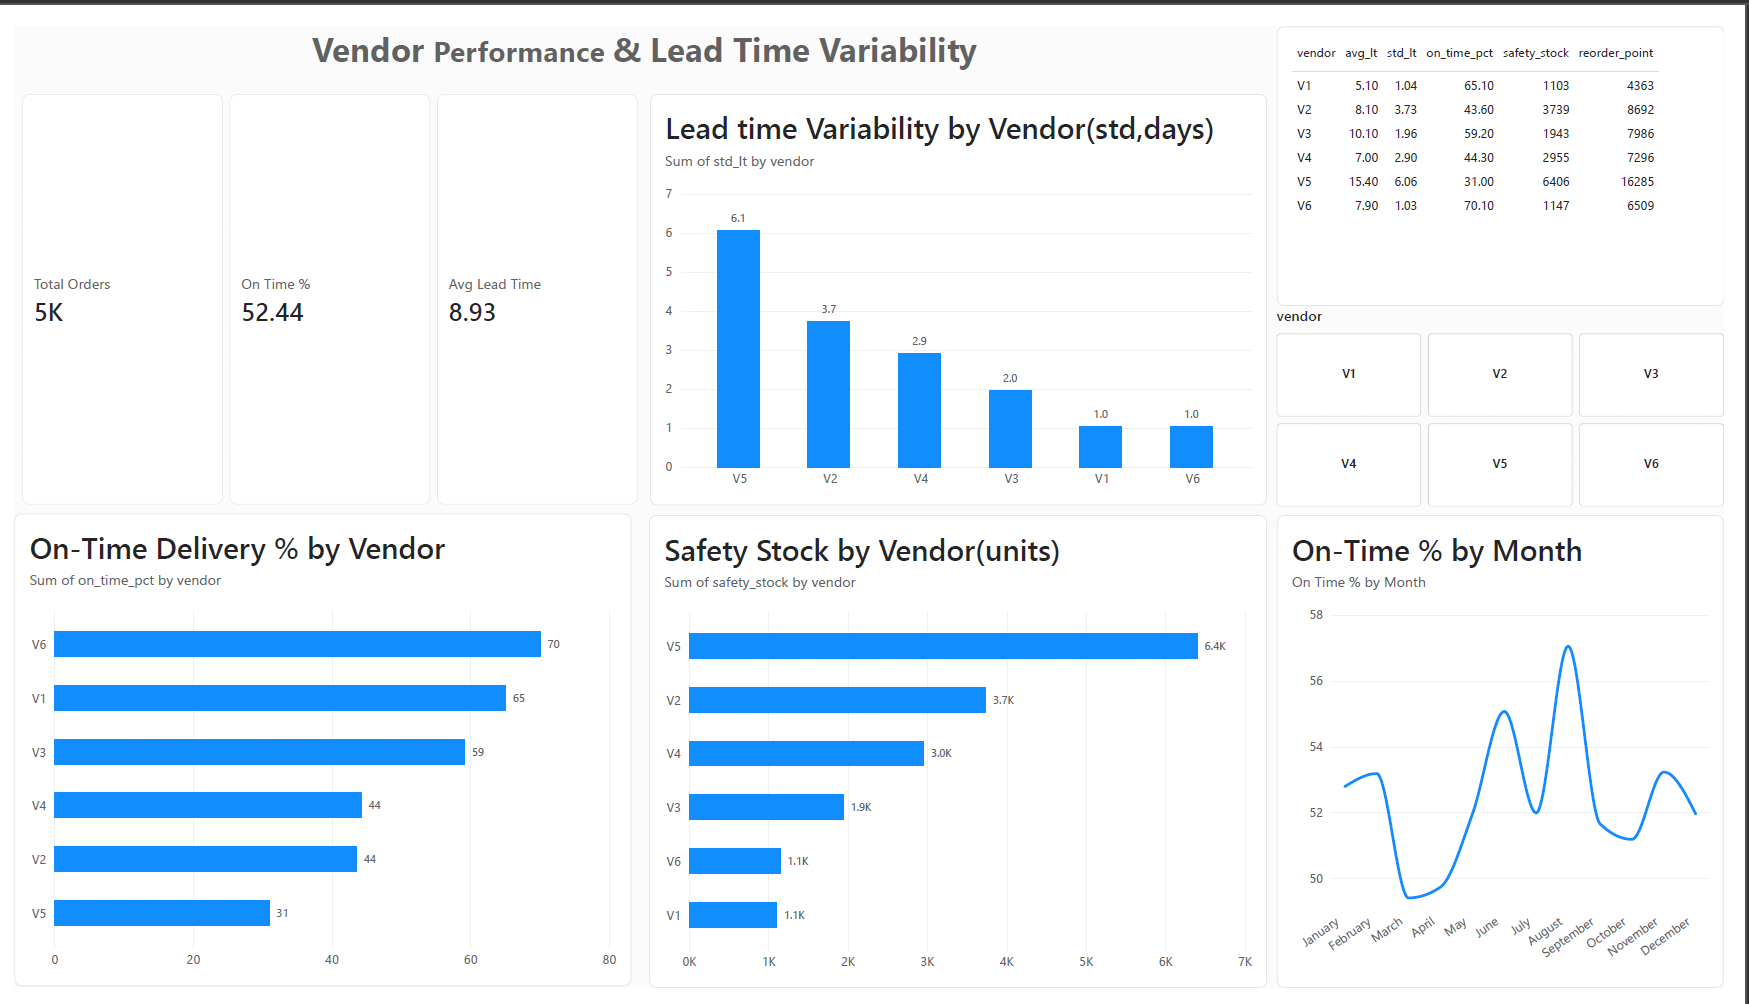

The page's visual inventory and layout, read from the dashboard file:
{"tool":"powerbi","page":{"name":"Page 1","canvas":[1920,1080],"ordinal":0},"visuals":[{"type":"cardVisual","fields":{"Data":["orders.Total Orders","orders.On Time %","orders.Avg Lead Time"]},"box":[9.1,75.9,692.7,461.8],"z":0},{"type":"clusteredBarChart","title":"On-Time Delivery % by Vendor","fields":{"Category":["vendor_summary.vendor"],"Y":["Sum(vendor_summary.on_time_pct)"]},"box":[0,546.8,692.7,531.6],"z":1},{"type":"clusteredColumnChart","title":"Lead time Variability by Vendor(std,days)","fields":{"Category":["vendor_summary.vendor"],"Y":["Sum(vendor_summary.std_lt)"]},"box":[713.9,75.9,692.7,461.8],"z":2},{"type":"clusteredBarChart","title":"Safety Stock by Vendor(units) ","fields":{"Category":["vendor_summary.vendor"],"Y":["Sum(vendor_summary.safety_stock)"]},"box":[713,549,694,531],"z":3},{"type":"tableEx","fields":{"Values":["vendor_summary.vendor","vendor_summary.avg_lt","vendor_summary.std_lt","vendor_summary.on_time_pct","vendor_summary.safety_stock","vendor_summary.reorder_point"]},"box":[1417.6,0,503.2,314.2],"z":4},{"type":"advancedSlicerVisual","fields":{"Values":["orders.vendor"]},"box":[1417.6,314.2,503.2,226.8],"z":5},{"type":"lineChart","title":"On-Time % by Month","fields":{"Category":["orders.order_date.Variation.Date Hierarchy.Year","orders.order_date.Variation.Date Hierarchy.Quarter","orders.order_date.Variation.Date Hierarchy.Month","orders.order_date.Variation.Date Hierarchy.Day"],"Y":["orders.On Time %"]},"box":[1418,549,502,531],"z":6},{"type":"textbox","box":[9.1,0,1397.5,75.9],"z":7}]}

Visuals, with their boxes in screenshot pixels (x1, y1, x2, y2), scaled from the page's 1920x1080 canvas onto the 1749x1004 screenshot:
cardVisual - orders.Total Orders x orders.On Time %: pyautogui.locateOnScreen(8, 71, 639, 500)
"On-Time Delivery % by Vendor" clusteredBarChart: pyautogui.locateOnScreen(0, 508, 631, 1003)
"Lead time Variability by Vendor(std,days)" clusteredColumnChart: pyautogui.locateOnScreen(650, 71, 1281, 500)
"Safety Stock by Vendor(units) " clusteredBarChart: pyautogui.locateOnScreen(649, 510, 1282, 1003)
tableEx - vendor_summary.vendor x vendor_summary.avg_lt: pyautogui.locateOnScreen(1291, 0, 1748, 292)
advancedSlicerVisual - orders.vendor: pyautogui.locateOnScreen(1291, 292, 1748, 503)
"On-Time % by Month" lineChart: pyautogui.locateOnScreen(1292, 510, 1748, 1003)
textbox: pyautogui.locateOnScreen(8, 0, 1281, 71)
